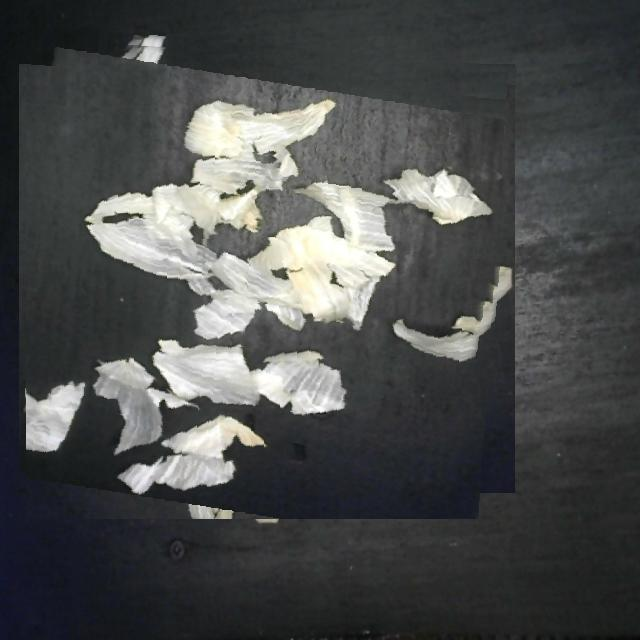biodegradable: (26, 37, 508, 519)
